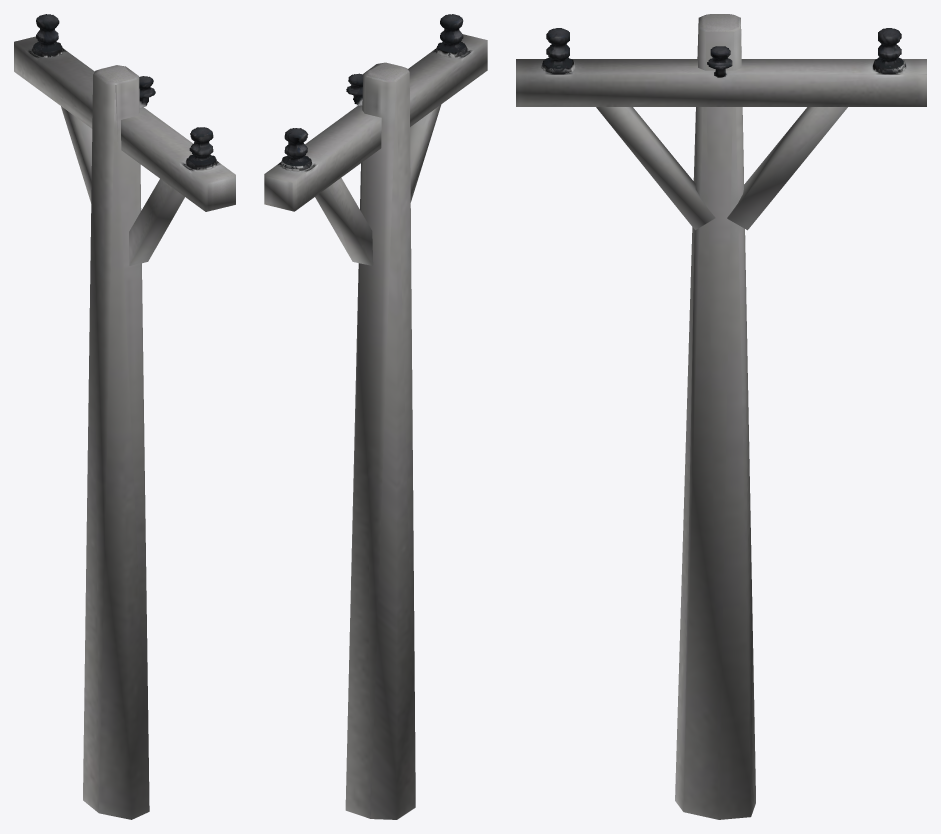
Rendered from utility+pole+3d+model.glb.
3 renders of one model, left to right at view 1: azimuth 30°, elevation 25°; view 2: azimuth 150°, elevation 25°; view 3: azimuth 270°, elevation 25°, orthographic. The views are drawn at different scales.
Visible parts, largest first — view 1: tripo_node_743f871e-404d-41fa-bf08-e5d2fd09a066; view 2: tripo_node_743f871e-404d-41fa-bf08-e5d2fd09a066; view 3: tripo_node_743f871e-404d-41fa-bf08-e5d2fd09a066.
Part boxes in pixels (bbox=[...]): tripo_node_743f871e-404d-41fa-bf08-e5d2fd09a066: bbox=[14, 14, 235, 819]; tripo_node_743f871e-404d-41fa-bf08-e5d2fd09a066: bbox=[264, 14, 487, 819]; tripo_node_743f871e-404d-41fa-bf08-e5d2fd09a066: bbox=[516, 14, 926, 819].
Bounding box in the file's own units: 0.0879 × 0.998 × 0.4746.
Materials: 1 (1 with a texture image).
